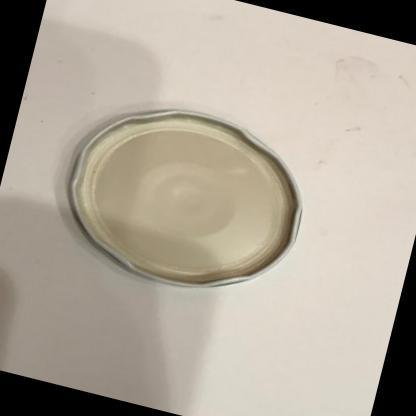Metal: (69, 110, 301, 288)
